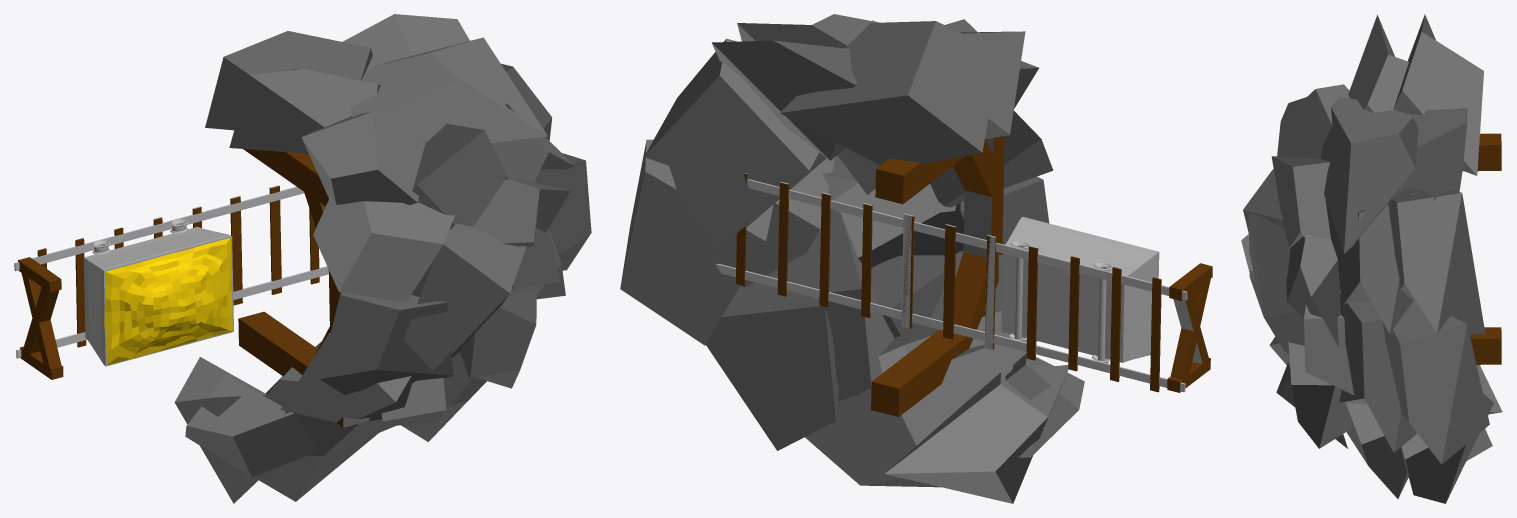
Rendered from Шахта3Origin.fbx.
The picture shows the model from 3 angles, left to right: view 1: azimuth 30°, elevation 25°; view 2: azimuth 150°, elevation 25°; view 3: azimuth 270°, elevation 25°; orthographic projection. The views are drawn at different scales.
Parts seen in each view (by area): view 1: Шахта3; view 2: Шахта3; view 3: Шахта3.
Boxes of the visible parts, x1,y1,x2,y2 form: Шахта3: [14, 14, 591, 503]; Шахта3: [620, 14, 1212, 503]; Шахта3: [1241, 14, 1502, 503].
Size of the model in its own units: 2.49 by 1.96 by 1.08.
